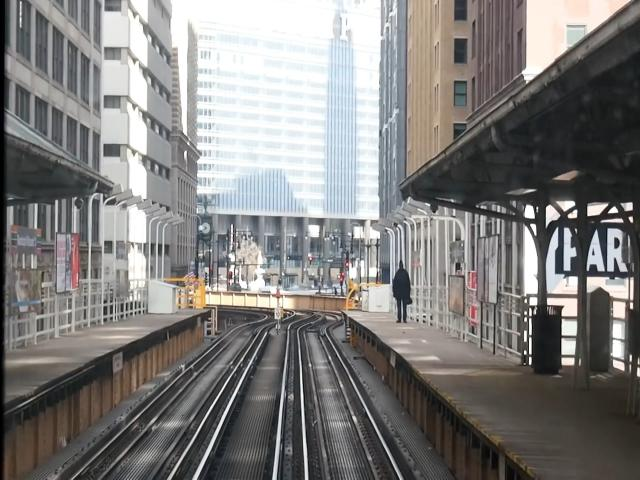signal light: (346, 252, 352, 273)
